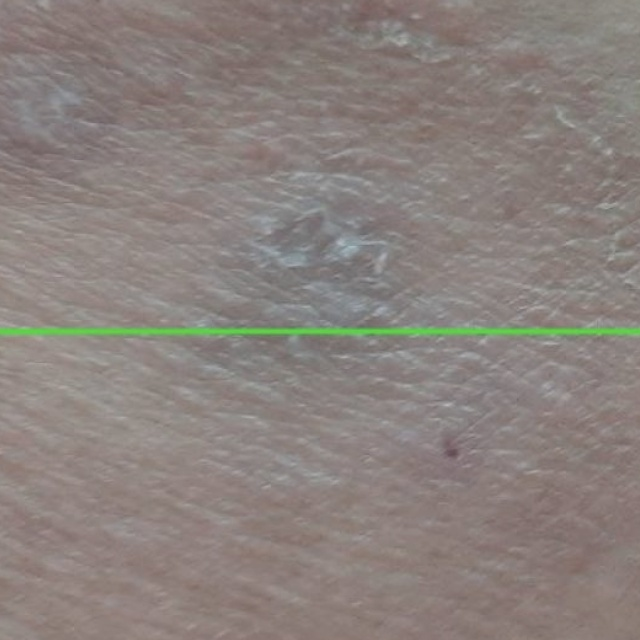Tinea Corporis: (0, 0, 639, 331)
